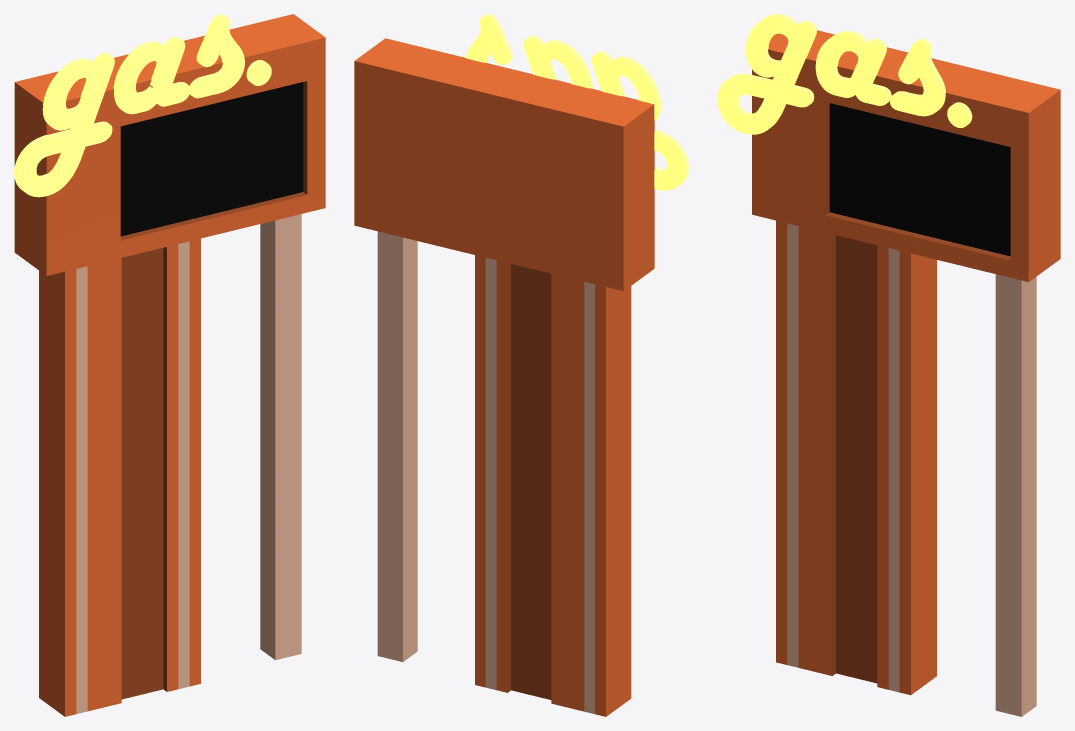
File: gas_sign.fbx
3 views of the same model, side by side, from view 1: azimuth 30°, elevation 25°; view 2: azimuth 150°, elevation 25°; view 3: azimuth 330°, elevation 25° (orthographic). The views are drawn at different scales.
Parts seen in each view (by area): view 1: gas_sign; view 2: gas_sign; view 3: gas_sign.
Part boxes in pixels (x1,y1,x2,y2): gas_sign: (14,14,325,716); gas_sign: (354,14,688,716); gas_sign: (717,14,1060,716).
Size of the model in its own units: 228 by 467 by 44.69.
